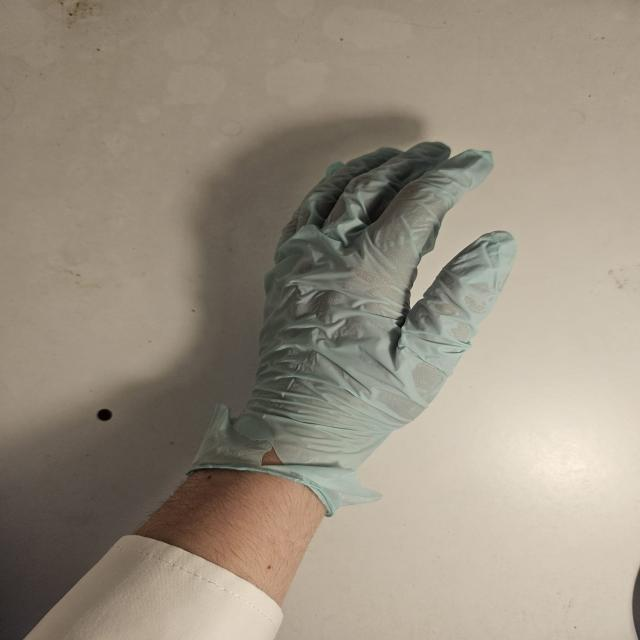gloves_damaged: (182, 141, 520, 517)
